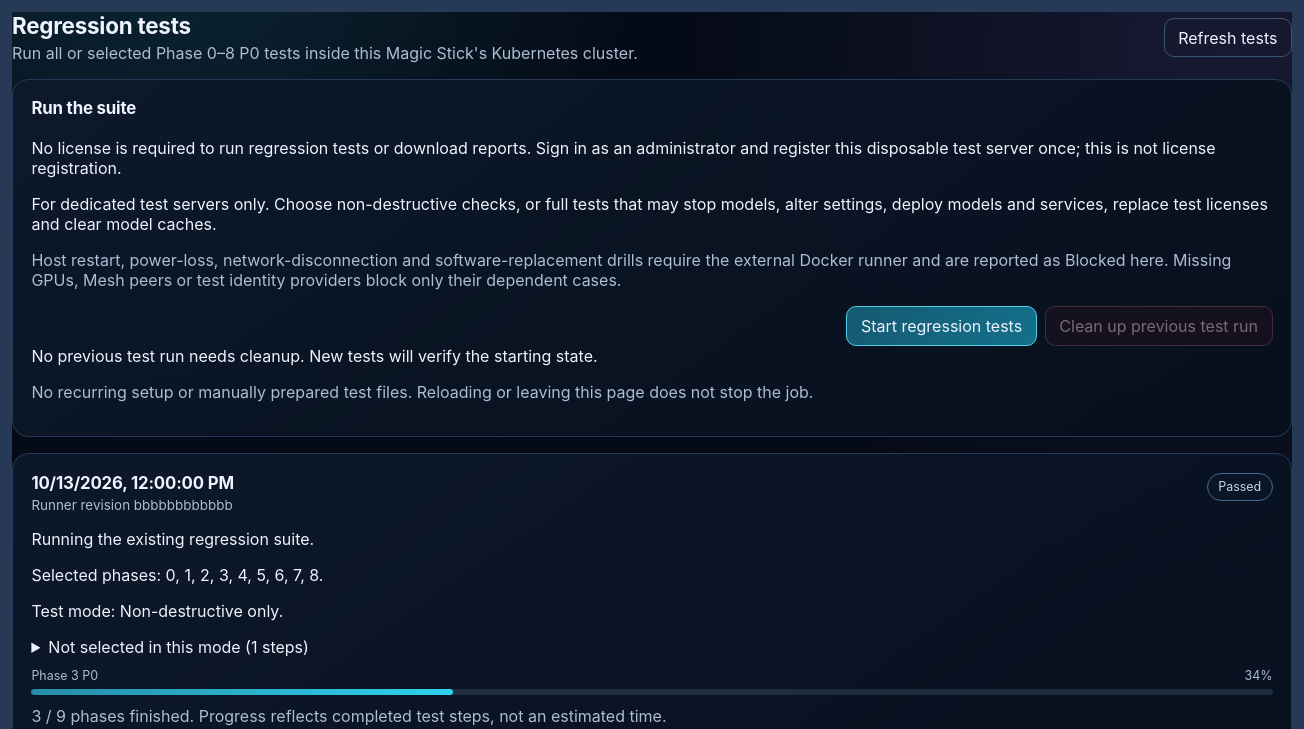
Test: In-Appliance regression tests › shows the saved mode and intentional exclusions separately from failed or blocked checks
expect the text labelled "Test mode" shows "Non-destructive only": met, box [120,601,279,621]
Click the heading "Not selected in this mode (1 steps)" at (179, 647), box [48,637,309,657]
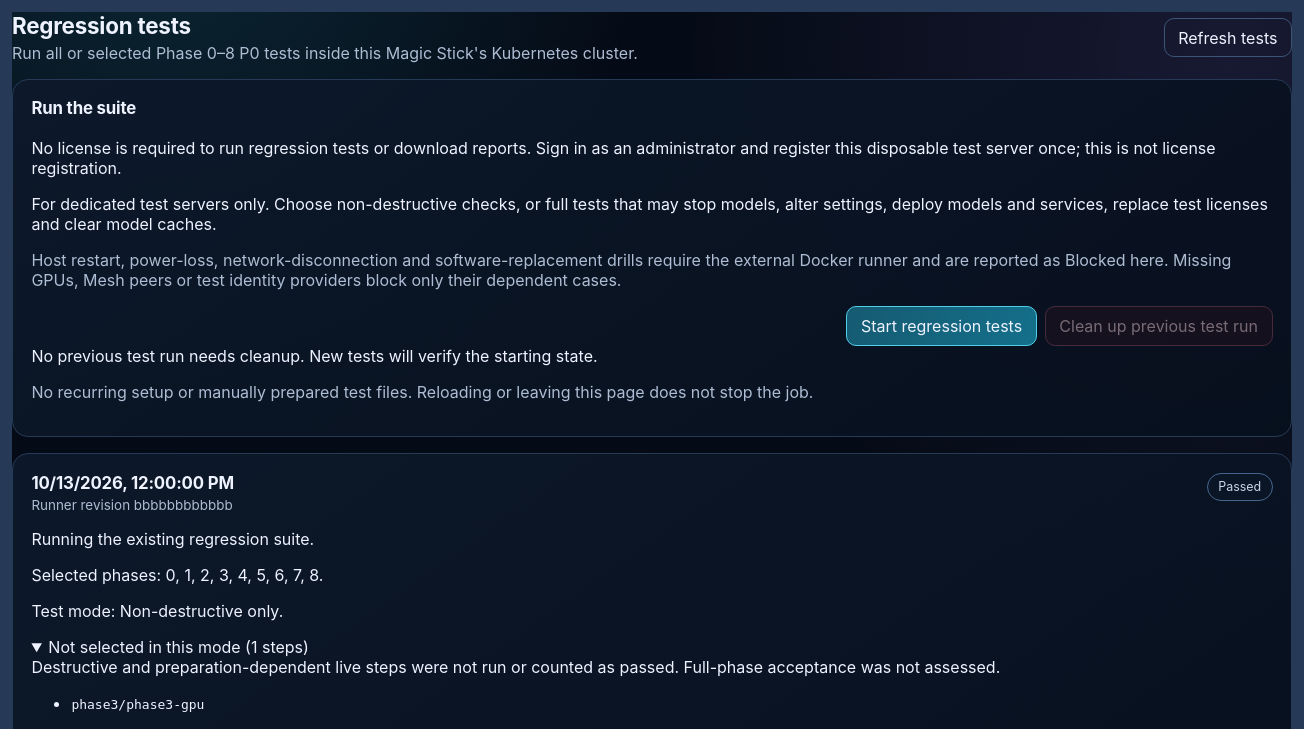
expect the text "phase3/phase3-gpu" is shown: met, box [71,697,204,712]
expect the text "Full-phase acceptance was not assessed" is shown: met, box [31,657,1000,677]
